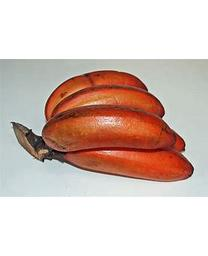banana: (13, 69, 195, 185)
